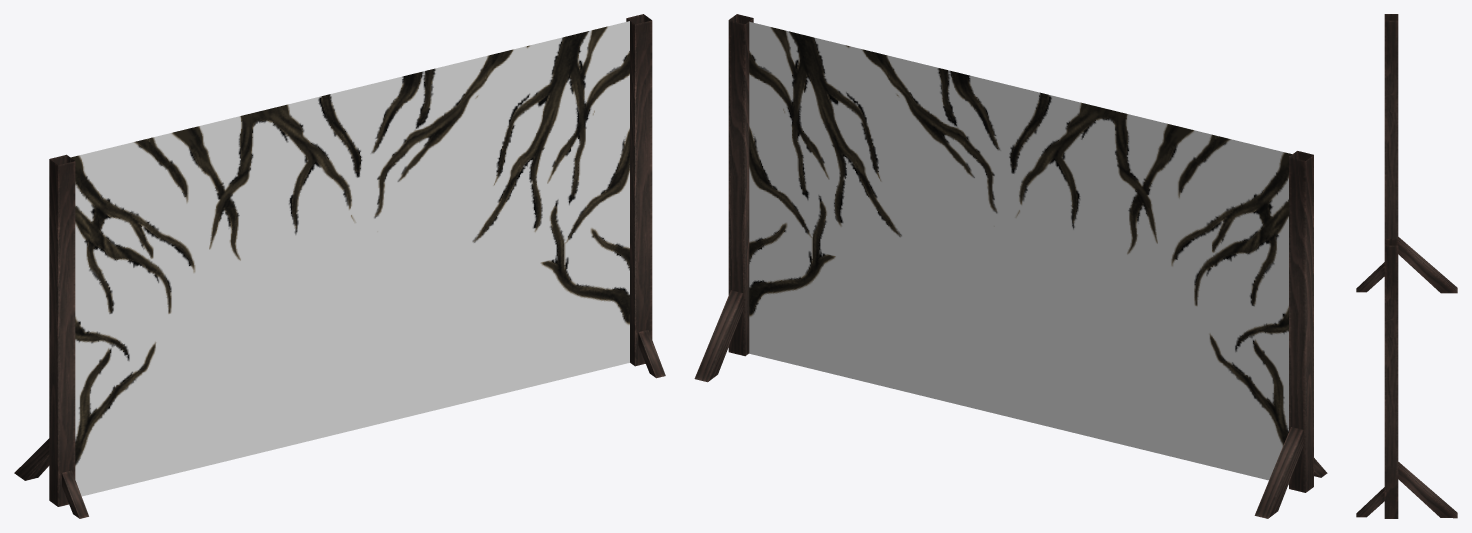
Rendered from Theater.Setpiece_1.fbx.
3 renders of one model, left to right at view 1: azimuth 30°, elevation 25°; view 2: azimuth 150°, elevation 25°; view 3: azimuth 270°, elevation 25°, orthographic. The views are drawn at different scales.
Visible parts, largest first — view 1: Theater.Setpiece_1; view 2: Theater.Setpiece_1; view 3: Theater.Setpiece_1.
Part boxes in pixels (<box>): Theater.Setpiece_1: <box>14,14,665,518</box>; Theater.Setpiece_1: <box>694,14,1327,518</box>; Theater.Setpiece_1: <box>1356,14,1457,518</box>.
Size of the model in its own units: 795 by 437 by 147.
